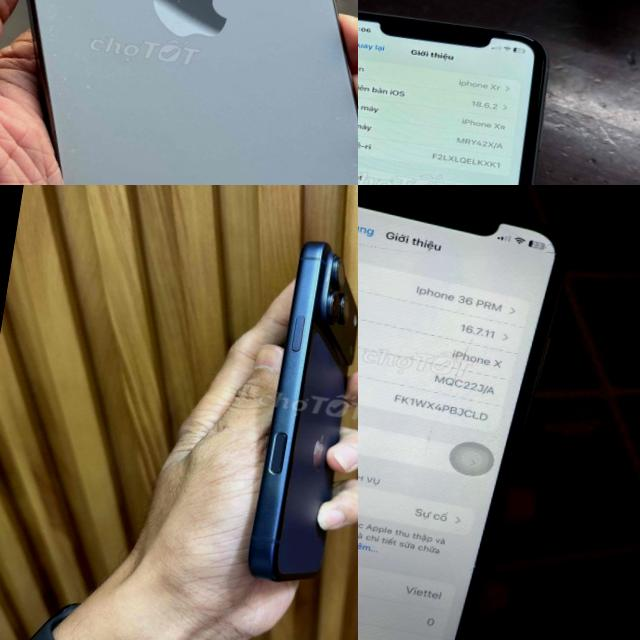gen_15: (0, 0, 358, 185)
gen_17: (237, 229, 358, 593)
gen_x_xs: (358, 191, 560, 640), (358, 0, 577, 185)
